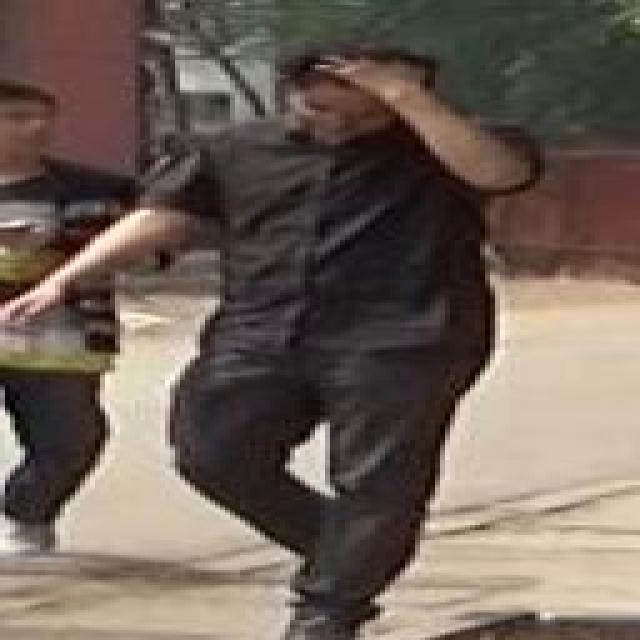adult: (135, 40, 560, 640), (0, 89, 94, 566)
